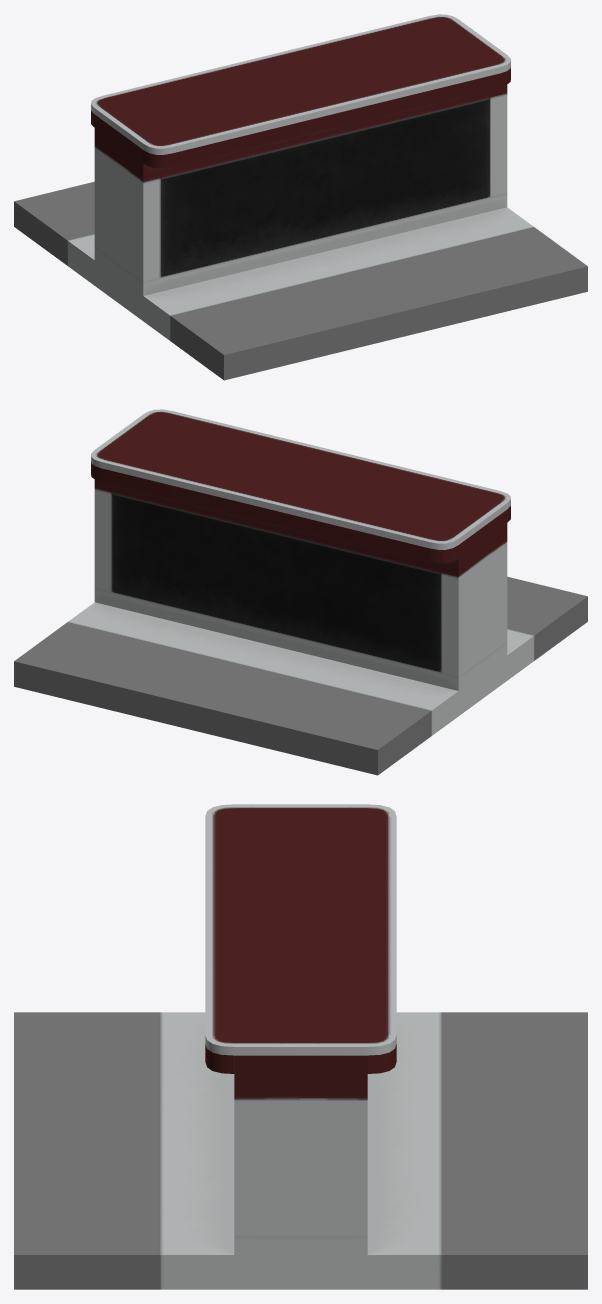
File: Room_Floor_Line_B.FBX
The picture shows the model from 3 angles, top to bottom: view 1: azimuth 30°, elevation 25°; view 2: azimuth 150°, elevation 25°; view 3: azimuth 270°, elevation 25°; orthographic projection. The views are drawn at different scales.
Visible parts, largest first — view 1: Room_Floor_Line_B; view 2: Room_Floor_Line_B; view 3: Room_Floor_Line_B.
Part boxes in pixels (x1,y1,x2,y2): Room_Floor_Line_B: (14,14,587,380); Room_Floor_Line_B: (14,409,587,775); Room_Floor_Line_B: (14,804,587,1289).
Size of the model in its own units: 300 by 140 by 300.
Materials: 1 (1 with a texture image).
